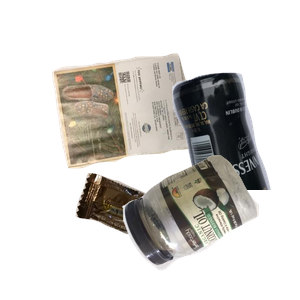glass: (106, 70, 300, 250)
paper: (49, 51, 235, 212)
plastic: (120, 152, 300, 300)
trash: (73, 171, 242, 300)
